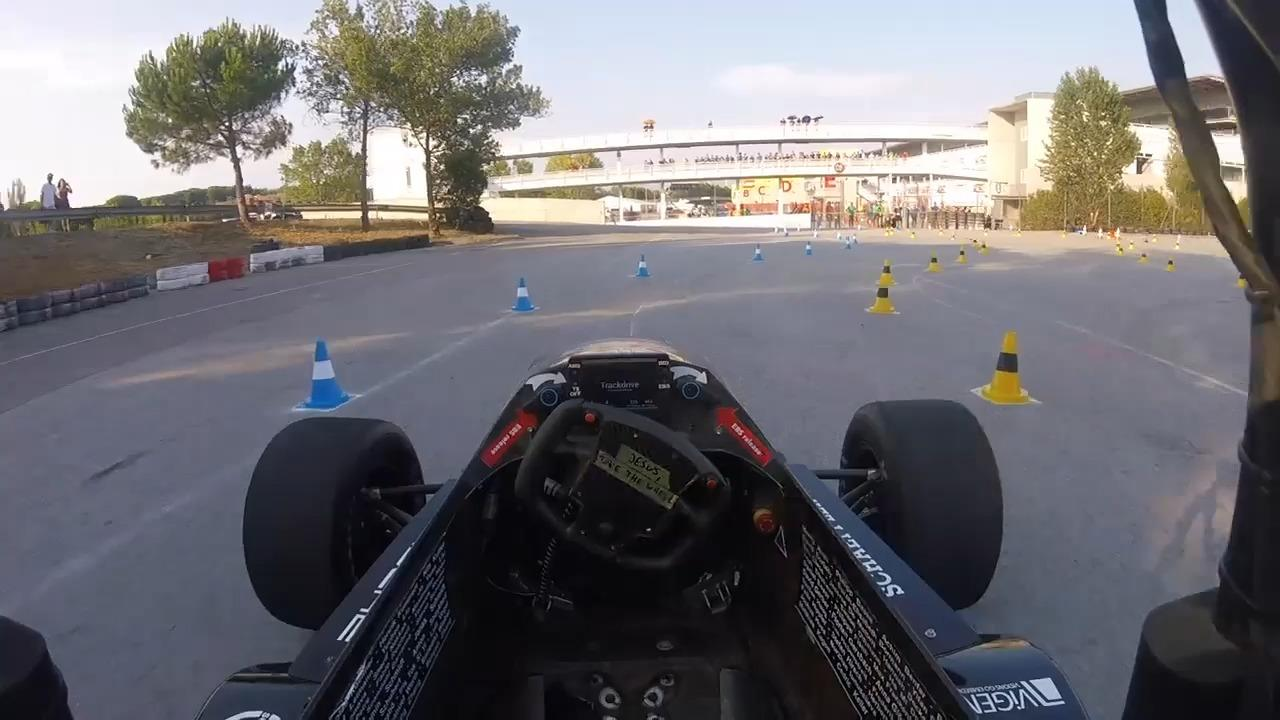blue_cone: (288, 333, 355, 417), (499, 271, 544, 319), (624, 251, 661, 287)
yellow_cone: (962, 332, 1041, 416), (866, 252, 902, 307)
